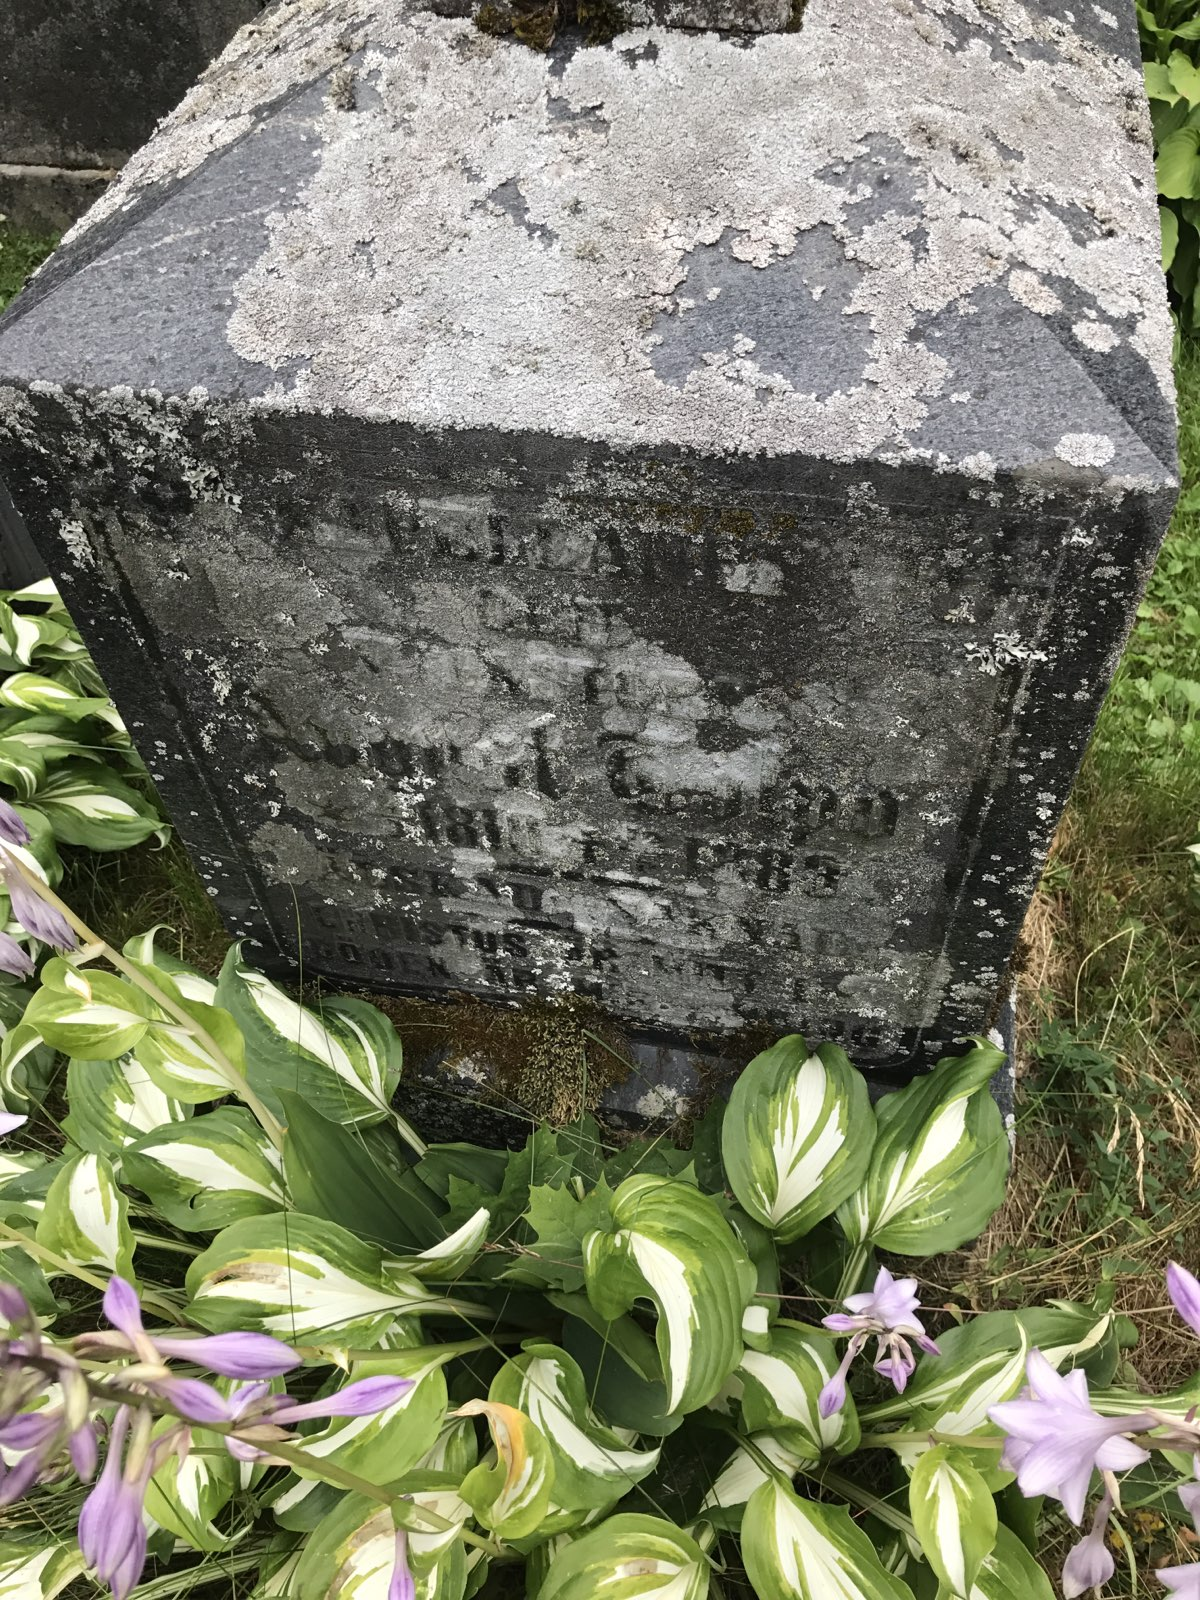upright: (0, 3, 1200, 1236)
